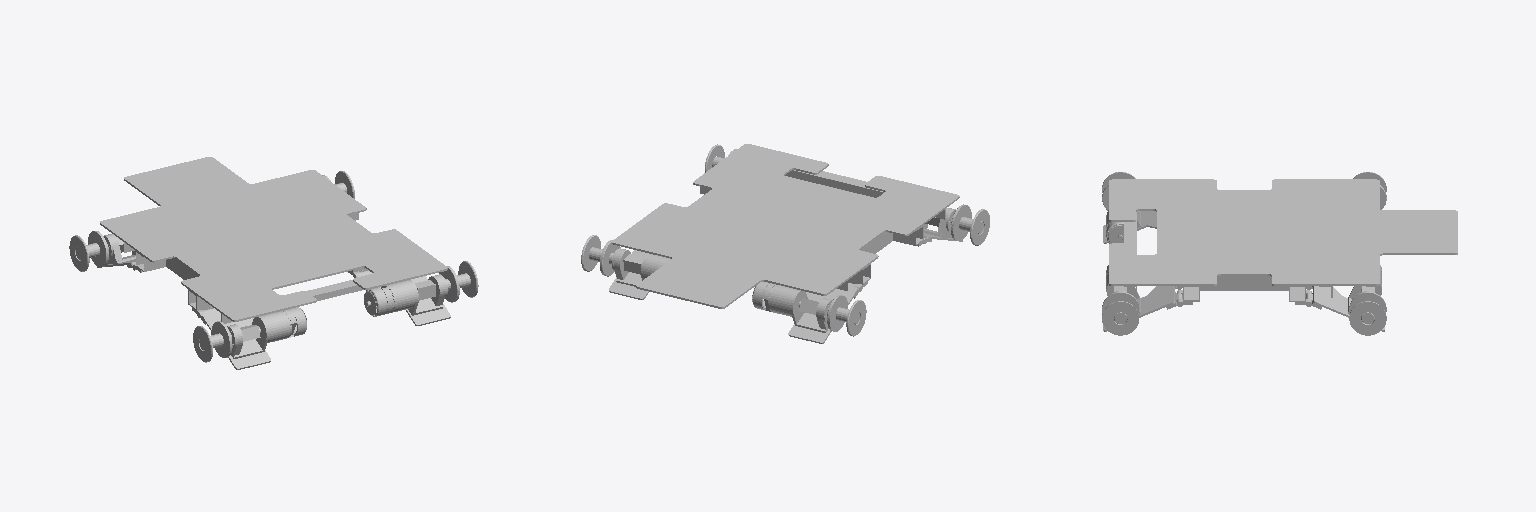
The model's file is carBase.obj.
3 renders of one model, left to right at view 1: azimuth 30°, elevation 25°; view 2: azimuth 150°, elevation 25°; view 3: azimuth 270°, elevation 25°, orthographic.
Visible parts, largest first — view 1: carBase; view 2: carBase; view 3: carBase.
Part boxes in pixels (left/top/right/bottom): carBase: left=69, top=157, right=478, bottom=369; carBase: left=581, top=144, right=989, bottom=343; carBase: left=1102, top=172, right=1457, bottom=335.
Size of the model in its own units: 9.06 by 1.56 by 10.46.